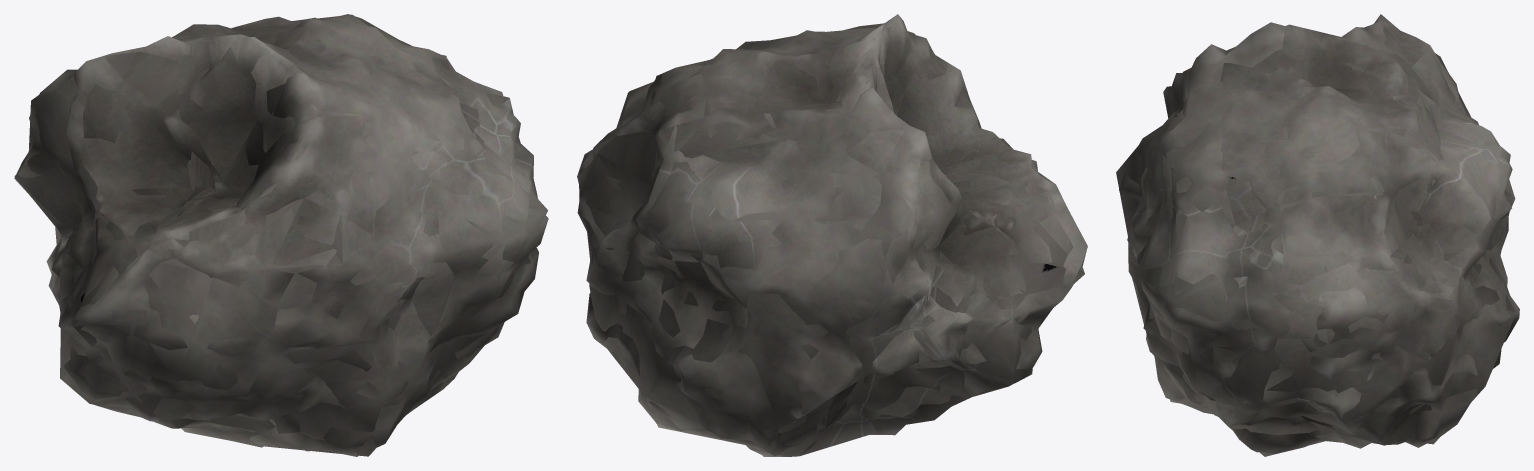
File: asteroid_a.glb
The picture shows the model from 3 angles, left to right: view 1: azimuth 30°, elevation 25°; view 2: azimuth 150°, elevation 25°; view 3: azimuth 270°, elevation 25°; orthographic projection. The views are drawn at different scales.
Visible parts, largest first — view 1: Asteroid_A, Asteroid_A_LOD; view 2: Asteroid_A, Asteroid_A_LOD; view 3: Asteroid_A, Asteroid_A_LOD.
Part boxes in pixels (<box>): Asteroid_A: <box>14,14,548,456</box>; Asteroid_A_LOD: <box>14,14,547,456</box>; Asteroid_A: <box>577,14,1087,456</box>; Asteroid_A_LOD: <box>579,27,1084,456</box>; Asteroid_A: <box>1119,14,1519,453</box>; Asteroid_A_LOD: <box>1116,20,1516,456</box>.
Size of the model in its own units: 1.85 by 1.56 by 1.48.
Materials: 1 (1 with a texture image).
